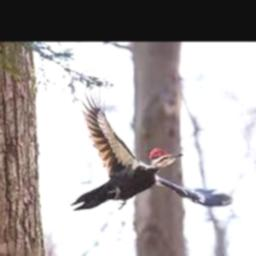Woodpecker: (71, 89, 233, 210)
